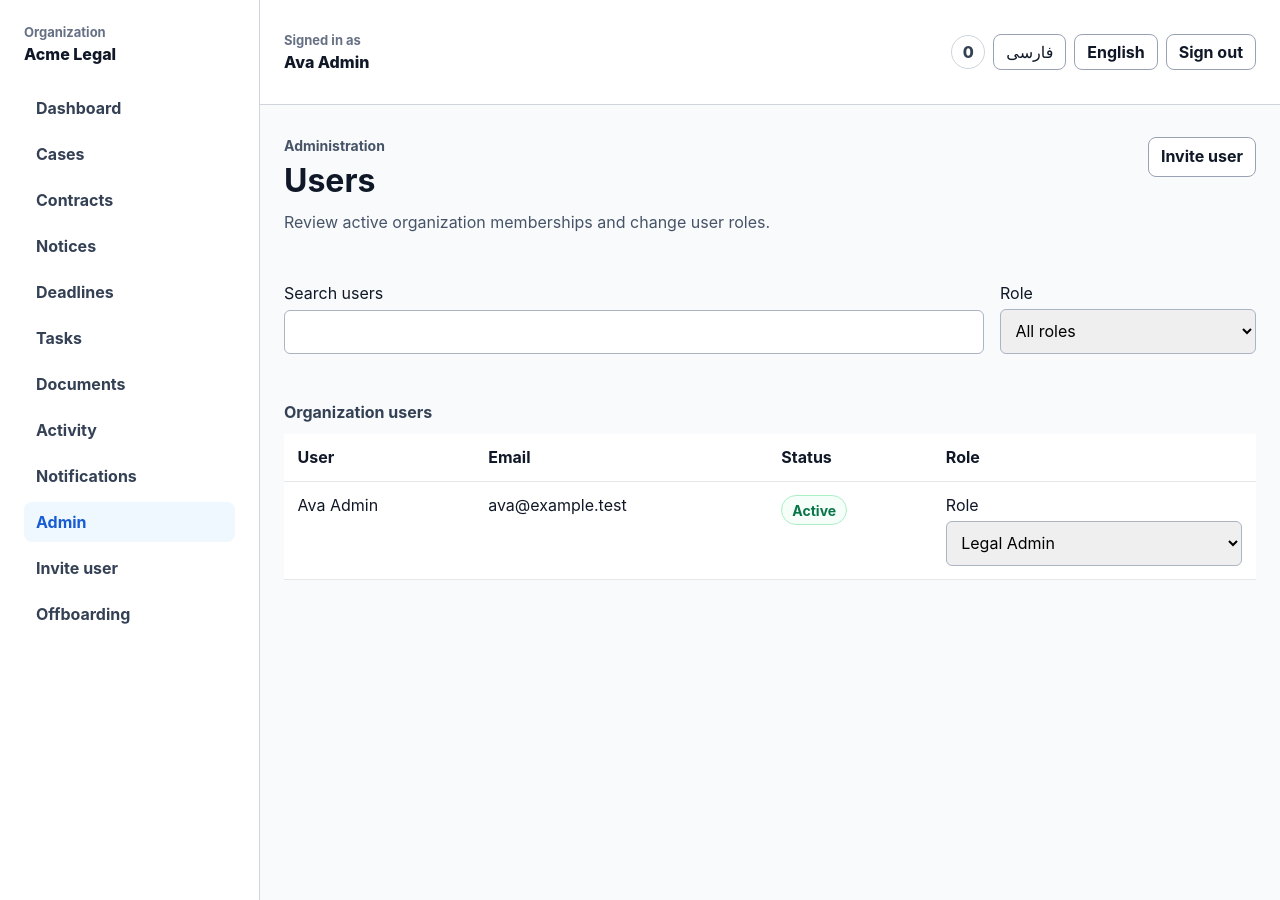
Scenario: self role change refreshes the authenticated session permissions
Step 1. Select "Viewer" in the dropdown named "Ava Admin Role" → [1094, 543], box [946,521,1242,566]
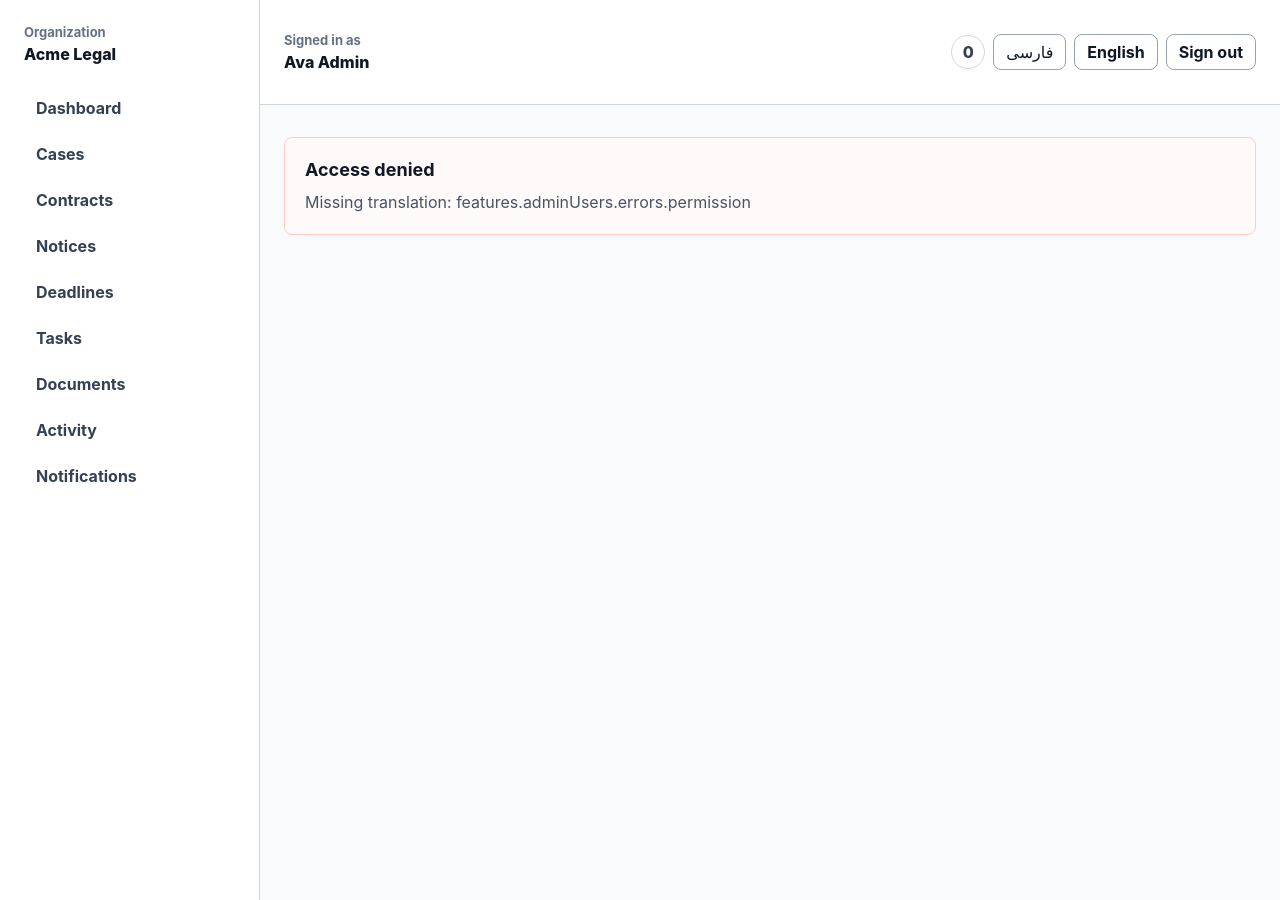
Expected: the message shows "Access denied", [305,159,435,180]
Expected: the link "Invite user" is gone
